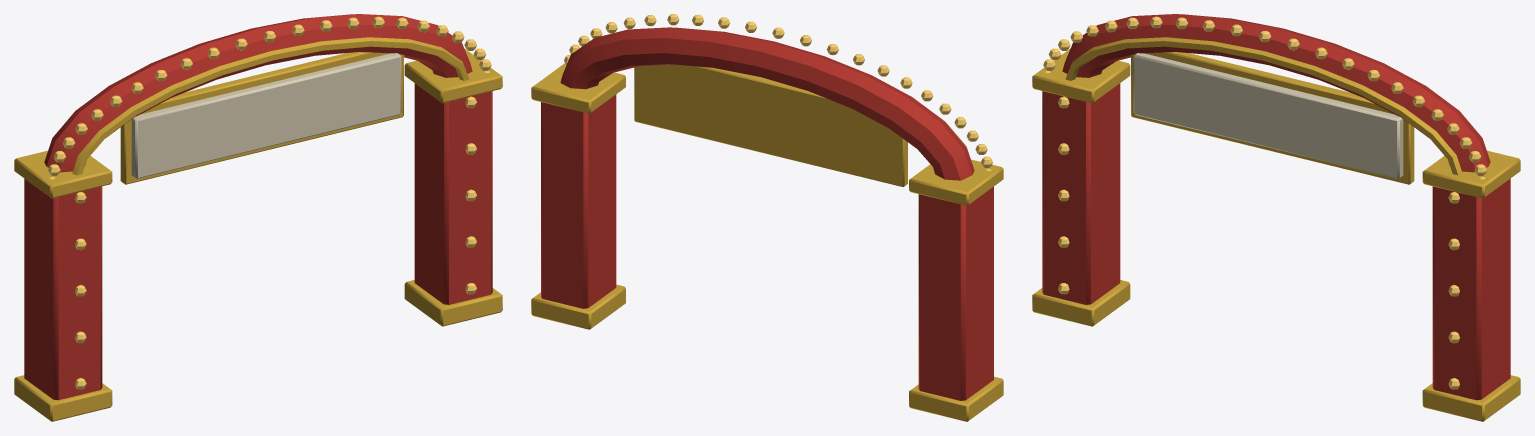
File: 195_arche_allee.fbx
The picture shows the model from 3 angles, left to right: view 1: azimuth 30°, elevation 25°; view 2: azimuth 150°, elevation 25°; view 3: azimuth 330°, elevation 25°; orthographic projection. The views are drawn at different scales.
Parts seen in each view (by area): view 1: Arche, Enseigne; view 2: Arche, Enseigne; view 3: Arche, Enseigne.
Part boxes in pixels (bbox=[...]): Arche: bbox=[14, 14, 502, 421]; Enseigne: bbox=[120, 52, 403, 184]; Arche: bbox=[531, 14, 1003, 421]; Enseigne: bbox=[634, 64, 907, 186]; Arche: bbox=[1032, 14, 1520, 421]; Enseigne: bbox=[1131, 52, 1414, 184].
Size of the model in its own units: 5.6 by 3.92 by 0.84.
Materials: 1 (1 with a texture image).
